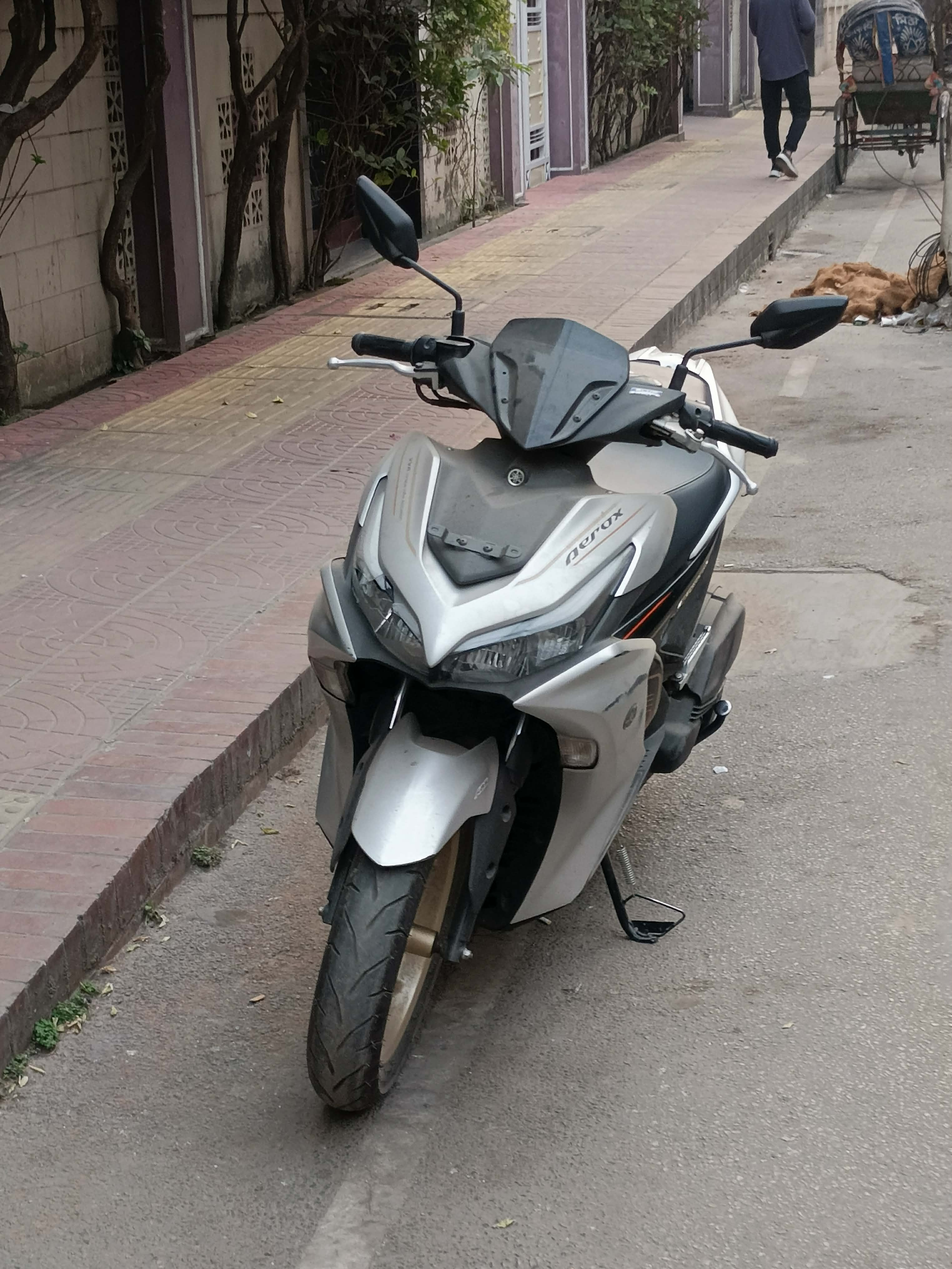Bikes: (262, 141, 795, 1169)
auto-ricksaw: (806, 0, 952, 211)
